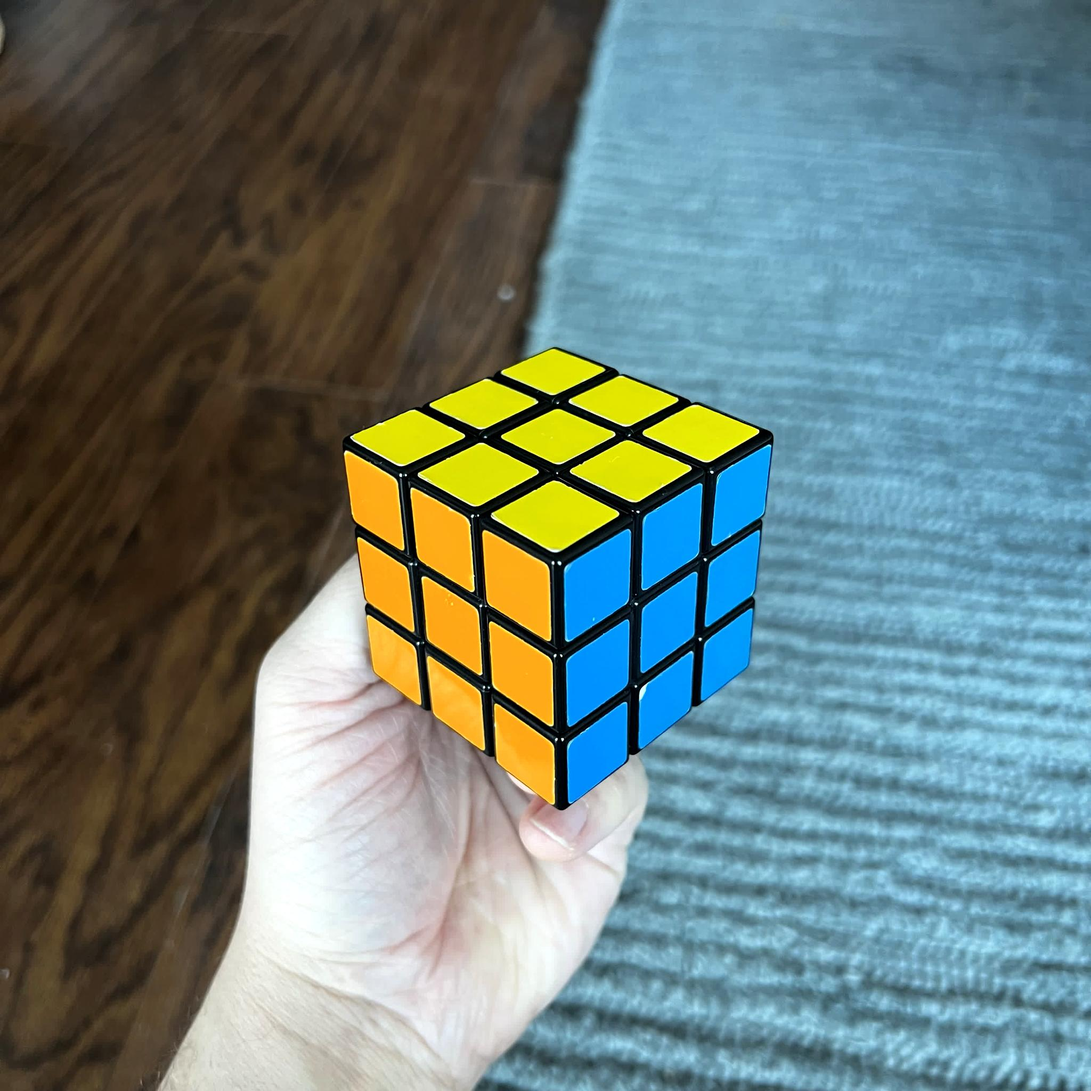rubiks_cube: (343, 349, 771, 803)
